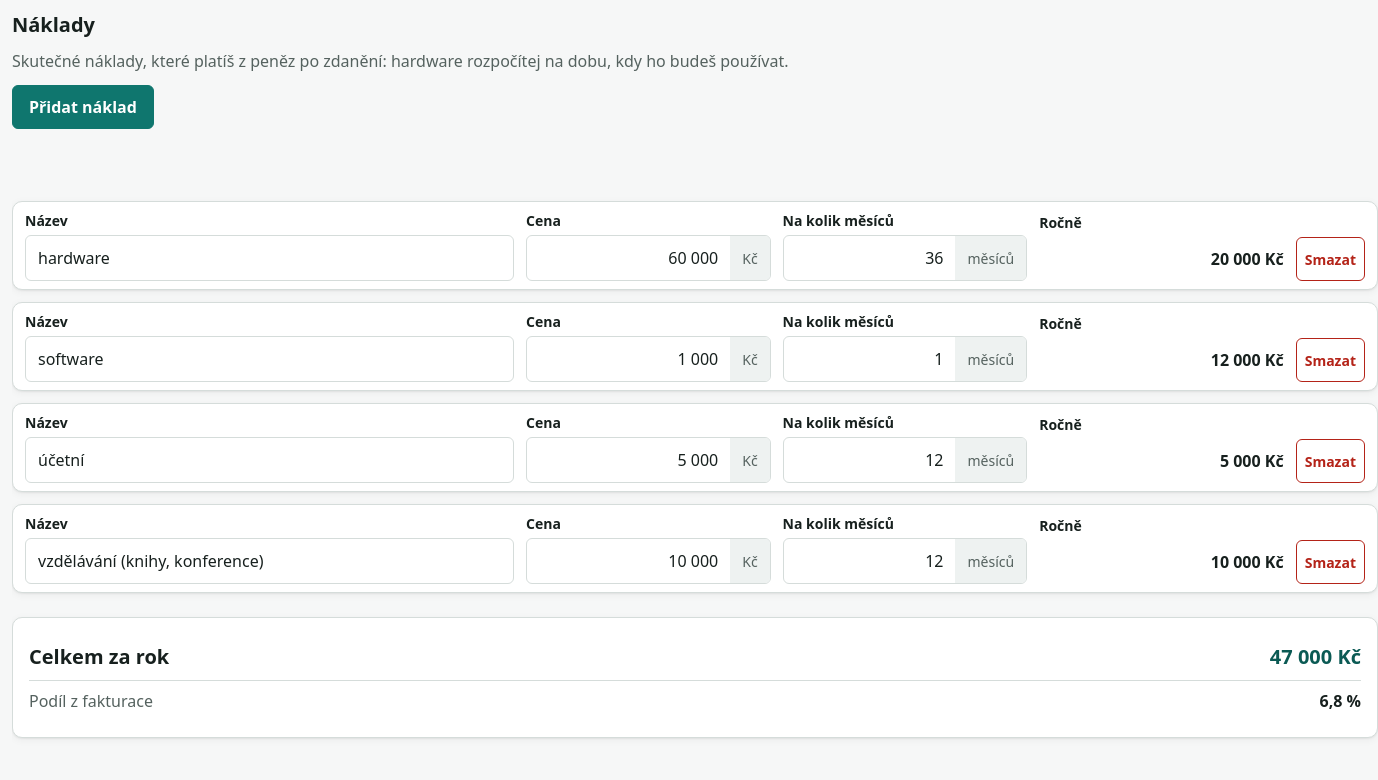
Scenario: CostsScreen › updates the yearly amount when the months of amortisation change
Replace the text in the field labelled "Na kolik měsíců" in the row of "20 000 Kč" with "12" at (870, 258), box 784,236 -> 956,280
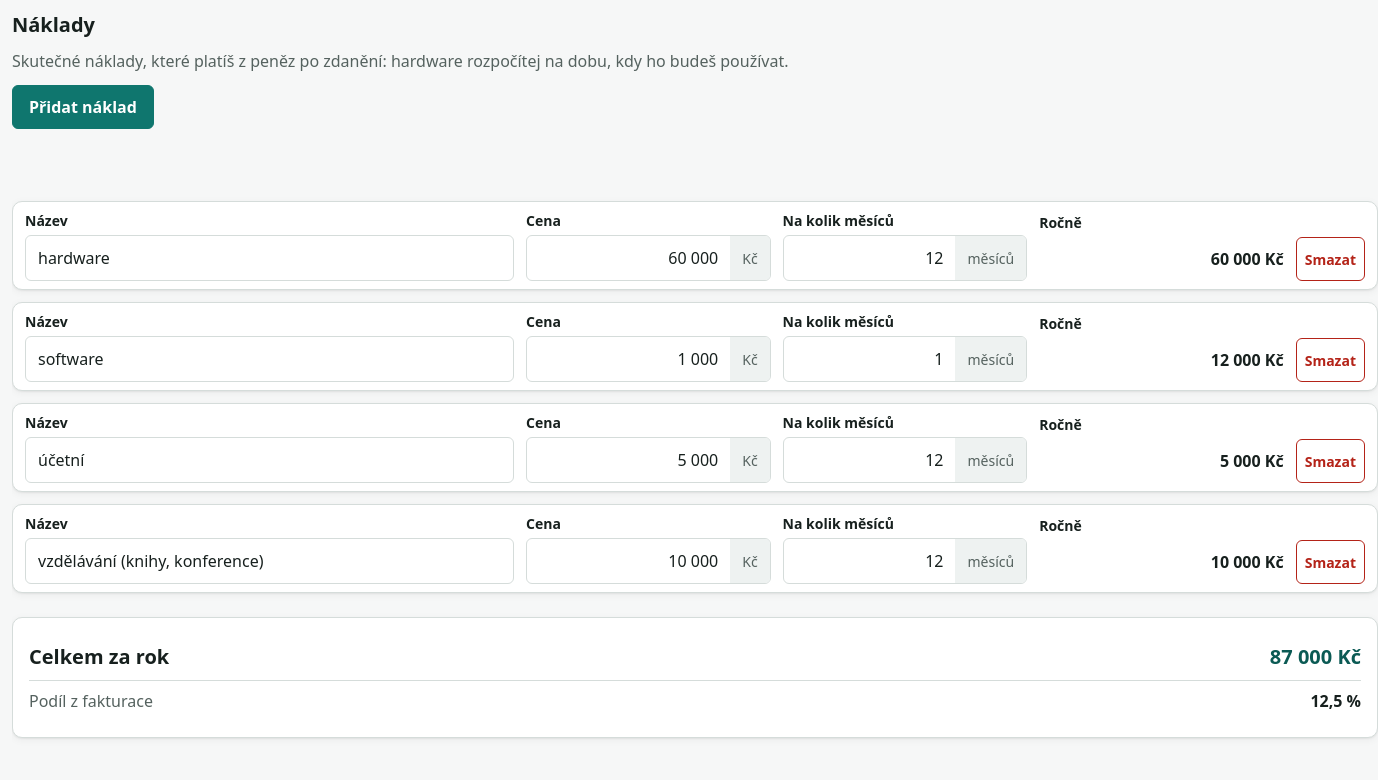
Check: the text with class "cost-yearly-value" reads "60 000 Kč", box 1211,248 -> 1284,270
